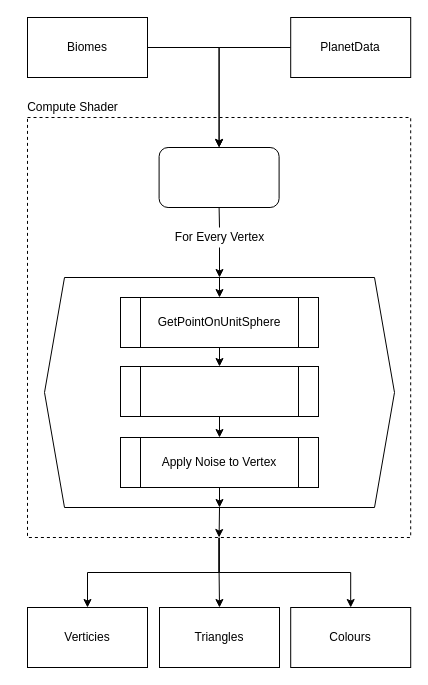
The diagram is 428 pixels wide and 685 high, and some of its shapes have lost their labels. Here are the shapes that lost their labels. From the top down, the centre of each, then its label:
(218,177): Main
(219,391): GetBiome
